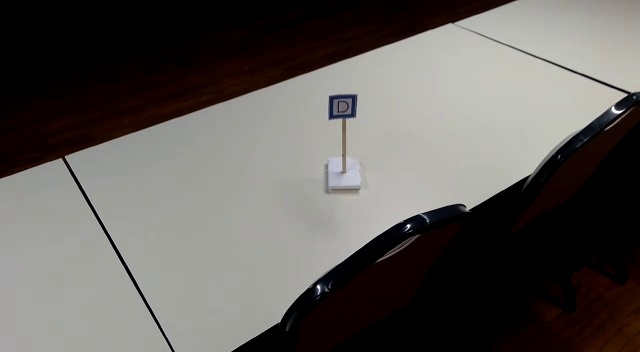durak: (330, 96, 356, 118)
